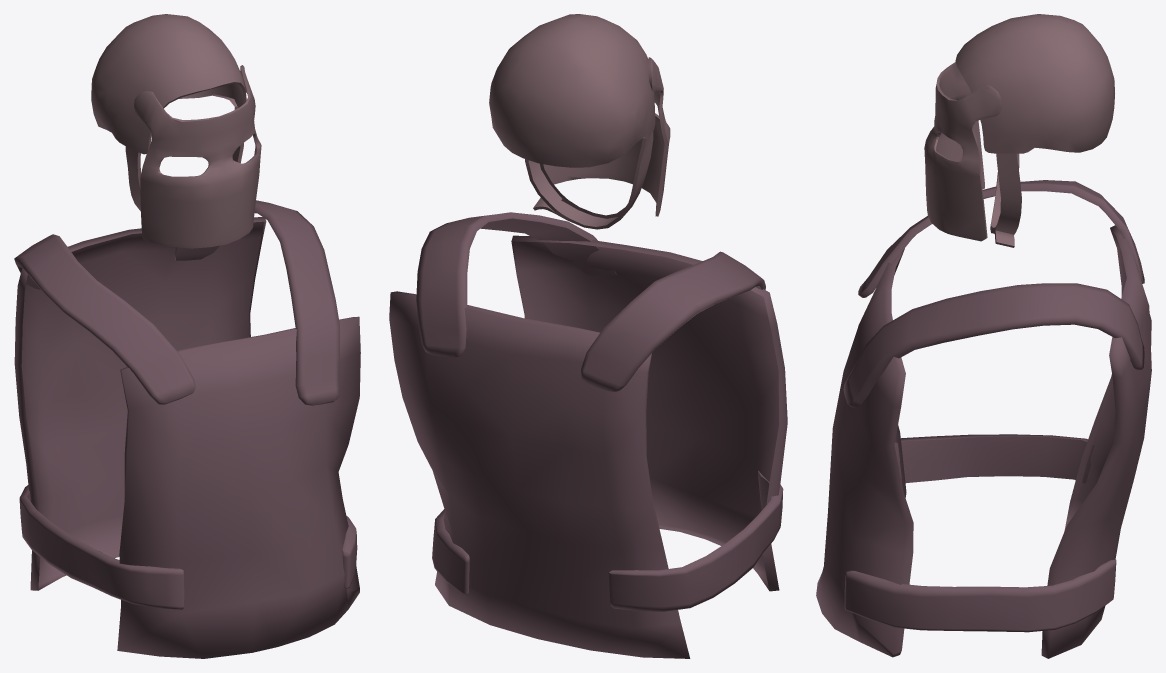
The model's file is enemy-armor.fbx.
3 views of the same model, side by side, from view 1: azimuth 30°, elevation 25°; view 2: azimuth 150°, elevation 25°; view 3: azimuth 270°, elevation 25° (orthographic). The views are drawn at different scales.
Visible parts, largest first — view 1: defaultMaterial.001, Matel_leather_Default_OBJ.001; view 2: defaultMaterial.001, Matel_leather_Default_OBJ.001; view 3: defaultMaterial.001, Matel_leather_Default_OBJ.001.
Boxes of the visible parts, x1,y1,x2,y2 form: defaultMaterial.001: [14, 200, 360, 658]; Matel_leather_Default_OBJ.001: [91, 14, 261, 248]; defaultMaterial.001: [389, 212, 787, 658]; Matel_leather_Default_OBJ.001: [489, 14, 670, 229]; defaultMaterial.001: [816, 180, 1151, 658]; Matel_leather_Default_OBJ.001: [924, 14, 1114, 247].
Bounding box in the file's own units: 38.63 × 74.77 × 39.36.
2 materials, 2 textured.
